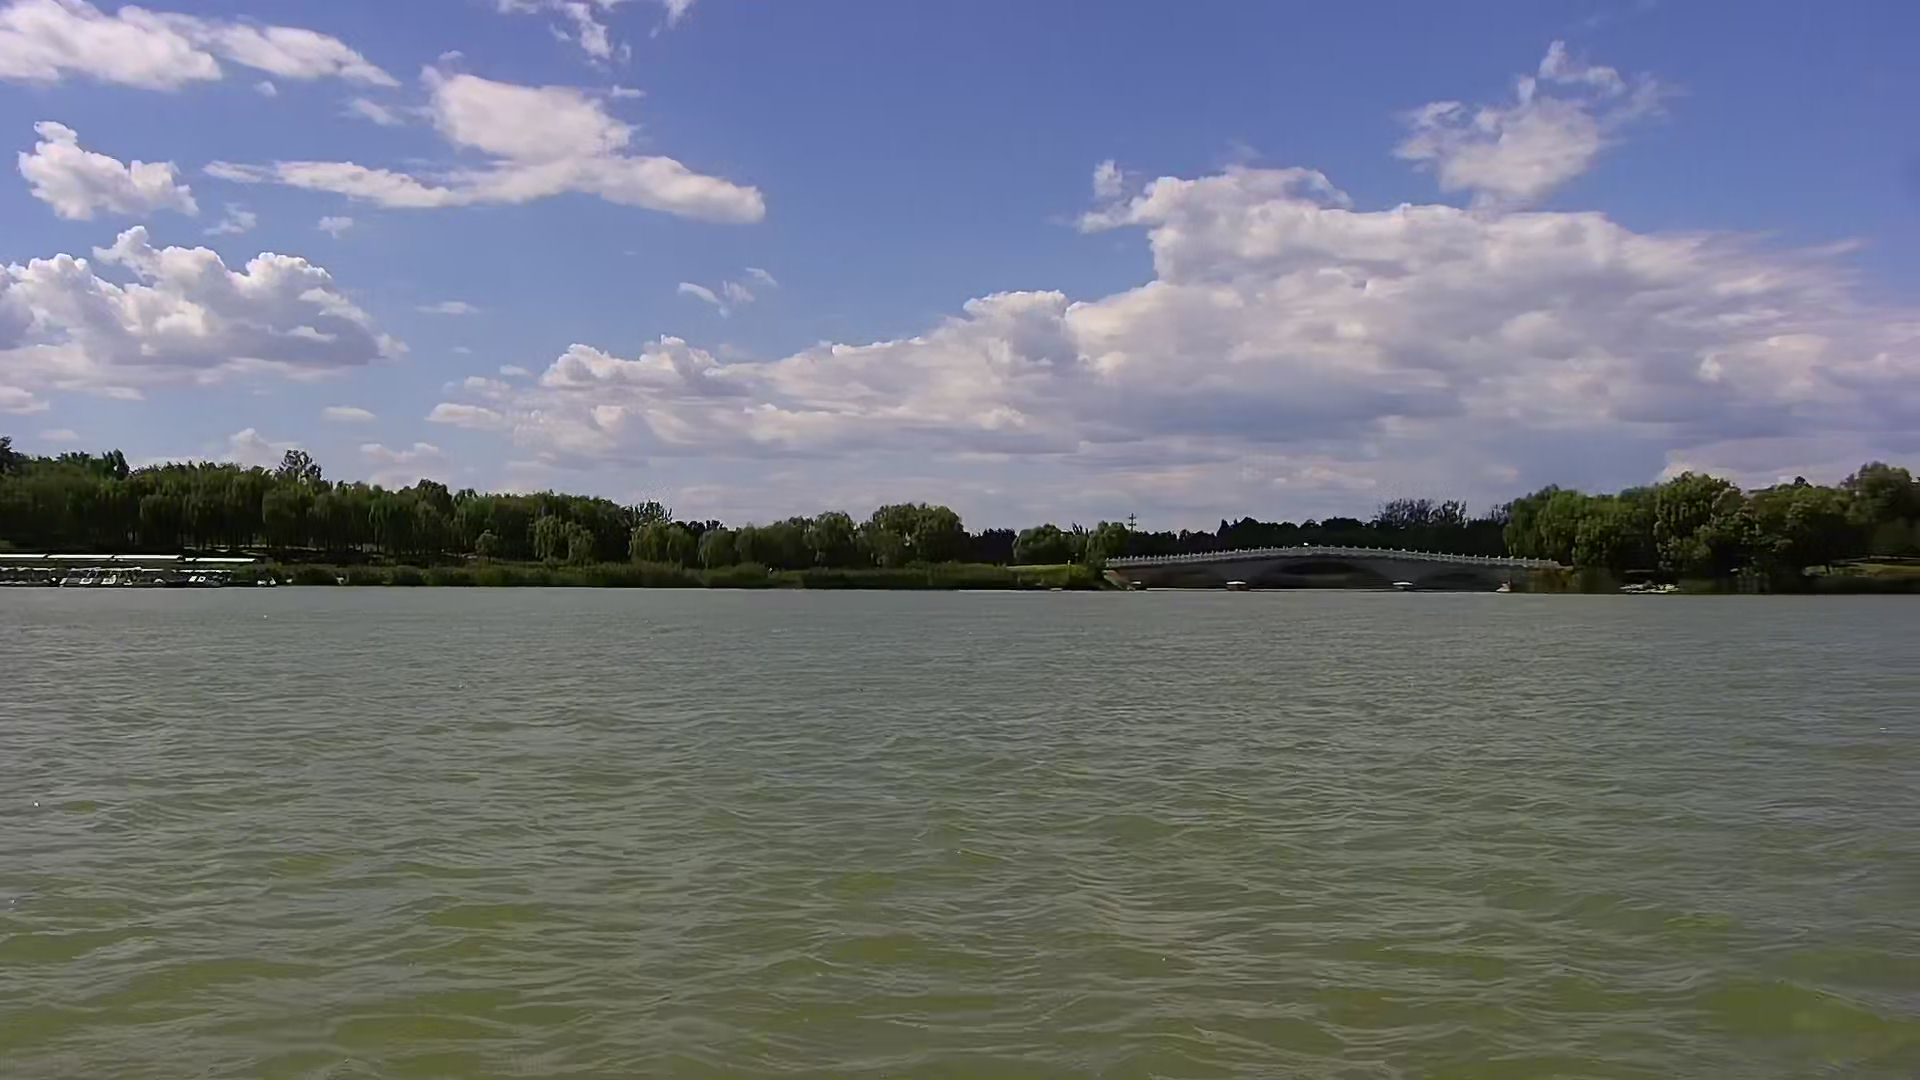bridge: (1102, 553, 1563, 593)
harbor: (1, 549, 258, 592)
